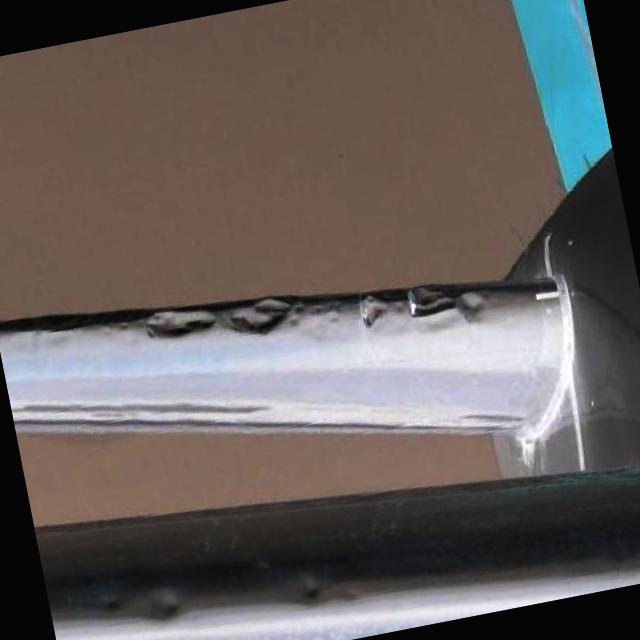dent: (226, 292, 302, 348), (142, 302, 218, 346), (145, 582, 198, 628), (408, 280, 458, 327), (451, 280, 497, 325), (286, 570, 332, 612), (355, 284, 391, 331)
